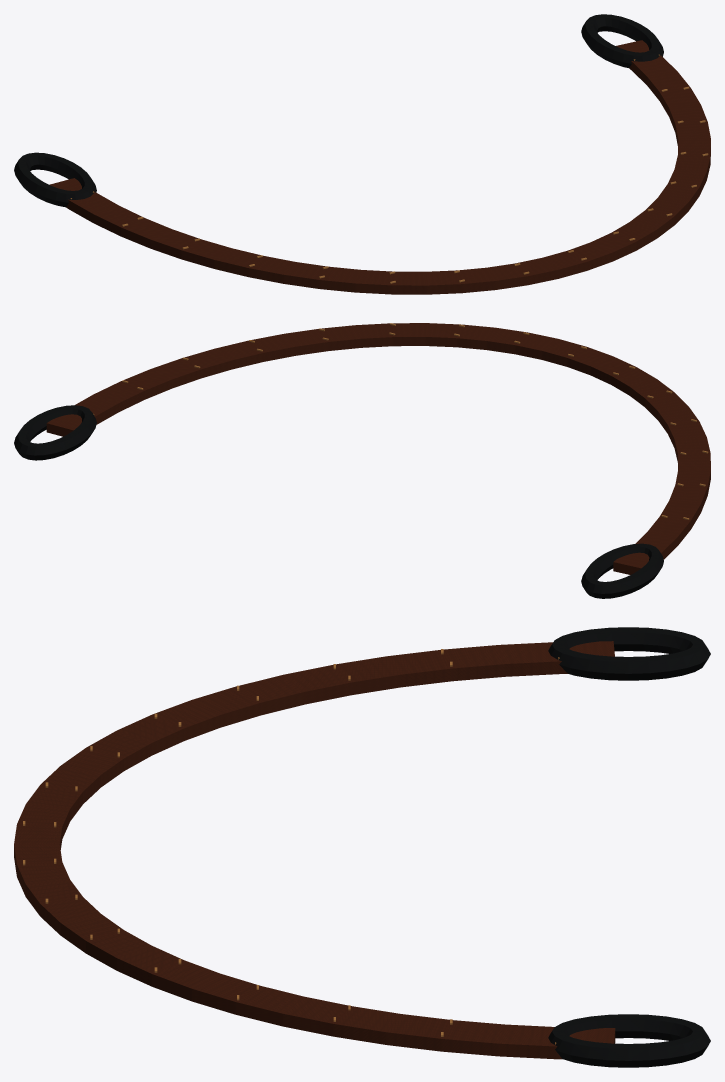
File: B47ANCEDEyewearLeatherRetainerGround.fbx
3 renders of one model, top to bottom at view 1: azimuth 30°, elevation 25°; view 2: azimuth 150°, elevation 25°; view 3: azimuth 270°, elevation 25°, orthographic. The views are drawn at different scales.
Visible parts, largest first — view 1: B47ANCEDEyewearLeatherRetainerGround; view 2: B47ANCEDEyewearLeatherRetainerGround; view 3: B47ANCEDEyewearLeatherRetainerGround.
Part boxes in pixels (left/top/right/bottom): B47ANCEDEyewearLeatherRetainerGround: left=14, top=14, right=710, bottom=294; B47ANCEDEyewearLeatherRetainerGround: left=14, top=323, right=710, bottom=598; B47ANCEDEyewearLeatherRetainerGround: left=14, top=627, right=710, bottom=1067.
Size of the model in its own units: 0.1434 by 0.00297 by 0.099.
